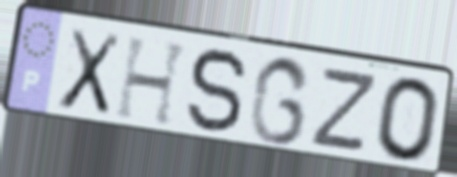G: (246, 53, 314, 148)
H: (112, 34, 193, 130)
O: (374, 74, 443, 165)
S: (184, 46, 251, 137)
X: (54, 25, 124, 119)
Z: (306, 67, 381, 156)
